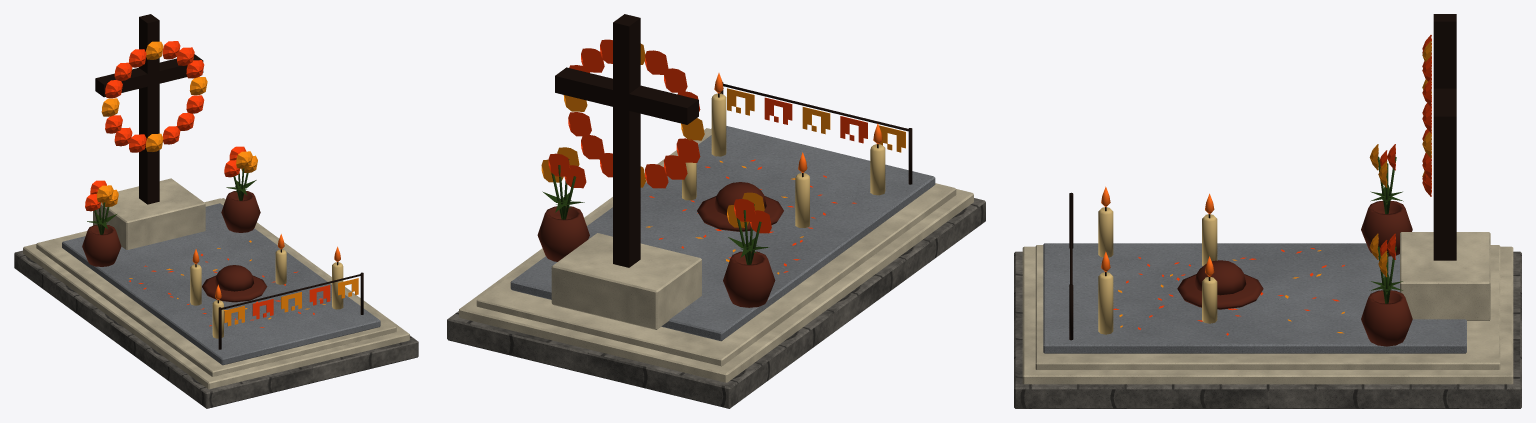
The model's file is tumba_07_ofrenda_decorativa.obj.
3 views of the same model, side by side, from view 1: azimuth 30°, elevation 25°; view 2: azimuth 150°, elevation 25°; view 3: azimuth 270°, elevation 25° (orthographic). The views are drawn at different scales.
Parts seen in each view (by area): view 1: Tumba_07_Ofrenda_Decorativa; view 2: Tumba_07_Ofrenda_Decorativa; view 3: Tumba_07_Ofrenda_Decorativa.
Boxes of the visible parts, box(x1,y1,x2,y2) form: Tumba_07_Ofrenda_Decorativa: box(14, 14, 418, 408); Tumba_07_Ofrenda_Decorativa: box(447, 14, 985, 408); Tumba_07_Ofrenda_Decorativa: box(1014, 14, 1521, 408).
Size of the model in its own units: 1.5 by 1.65 by 2.35.
Materials: 10 (3 with a texture image).
